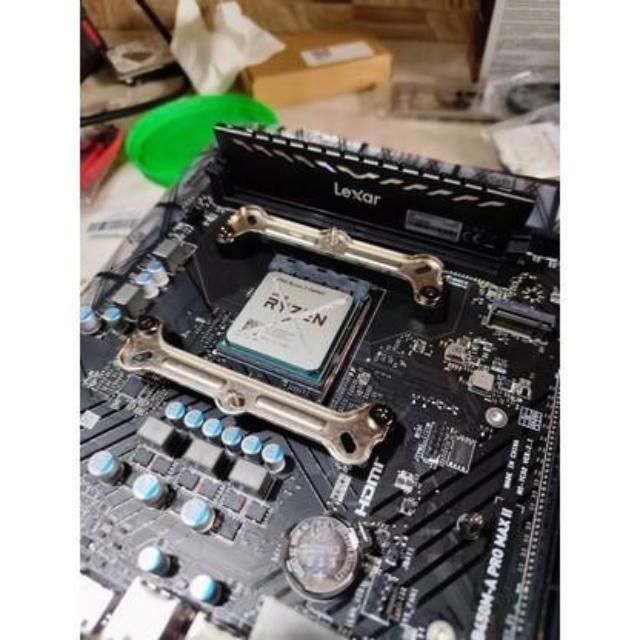CPU: (234, 273, 344, 375)
